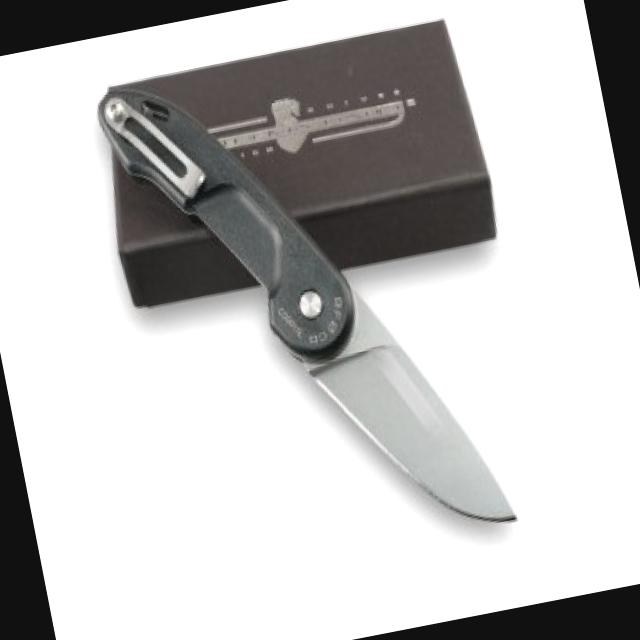knife: (253, 247, 522, 569)
